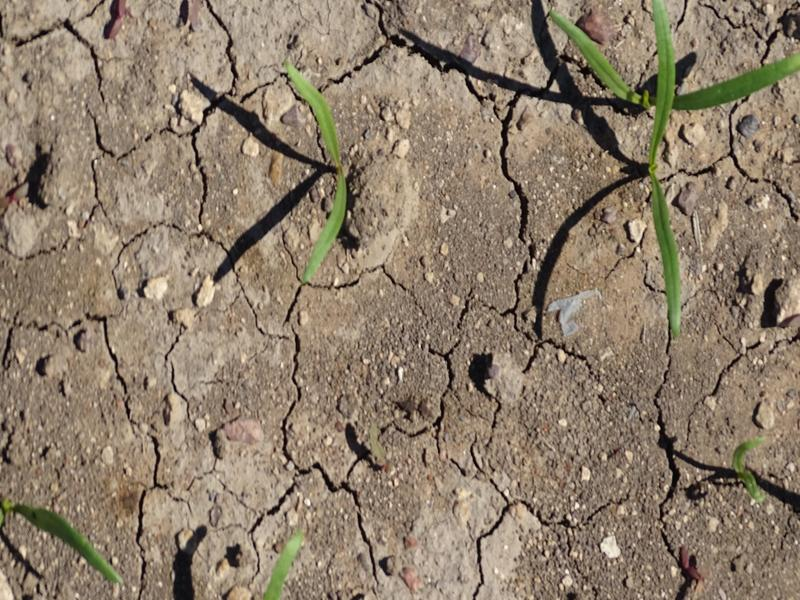Espinaca: (545, 5, 781, 335), (285, 65, 357, 282), (14, 503, 130, 583), (263, 534, 309, 597), (726, 437, 764, 504)
